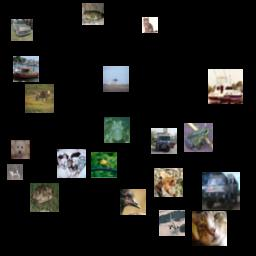airplane: (103, 66, 129, 92), (159, 210, 185, 236)
automobile: (11, 19, 33, 41)
bird: (120, 189, 146, 215), (91, 152, 117, 178)
cat: (192, 211, 227, 246), (57, 149, 86, 178), (142, 17, 158, 33)
deer: (25, 84, 54, 113)
dog: (11, 140, 30, 159), (7, 164, 23, 180)
frog: (184, 123, 213, 152), (30, 183, 59, 212), (154, 168, 183, 197), (104, 117, 130, 143), (82, 3, 104, 25)
ship: (208, 69, 243, 104), (13, 56, 39, 82)
truck: (202, 172, 240, 210), (151, 128, 177, 154)
